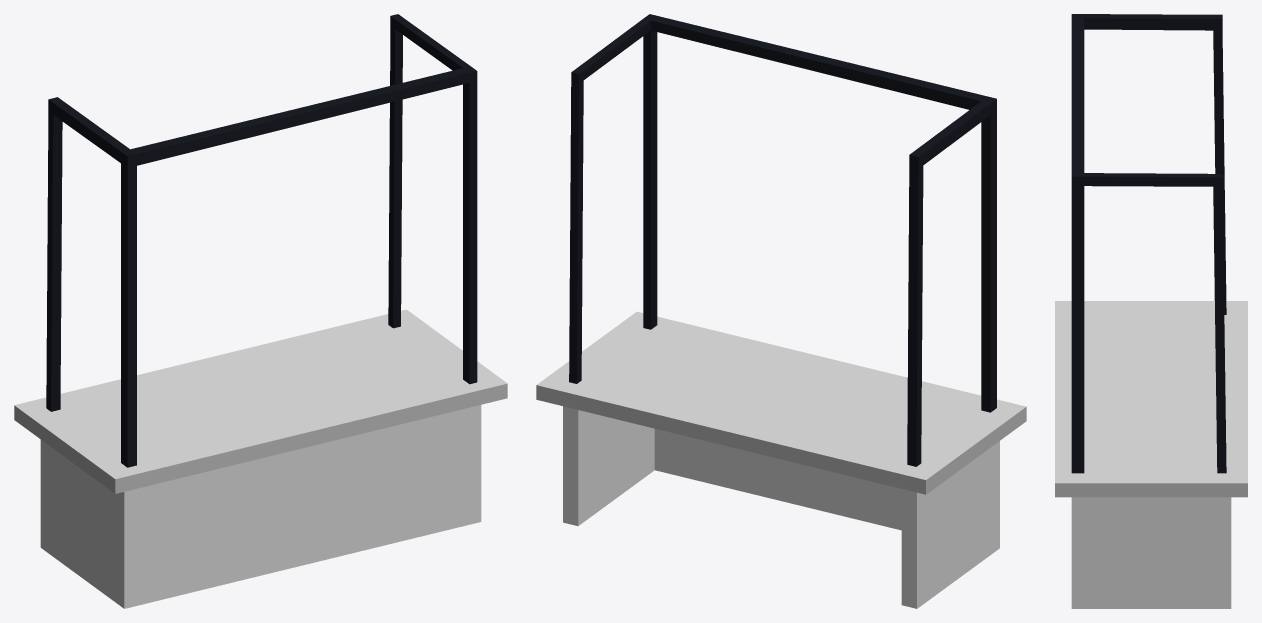
Rendered from Ready Station.glb.
3 views of the same model, side by side, from view 1: azimuth 30°, elevation 25°; view 2: azimuth 150°, elevation 25°; view 3: azimuth 270°, elevation 25° (orthographic). The views are drawn at different scales.
Parts seen in each view (by area): view 1: Ready Station; view 2: Ready Station; view 3: Ready Station.
Boxes of the visible parts, x1,y1,x2,y2 form: Ready Station: (14,14,507,608); Ready Station: (536,14,1026,608); Ready Station: (1055,14,1247,608).
Bounding box in the file's own units: 2.48 × 2.73 × 1.11.
Materials: 1 (1 with a texture image).
